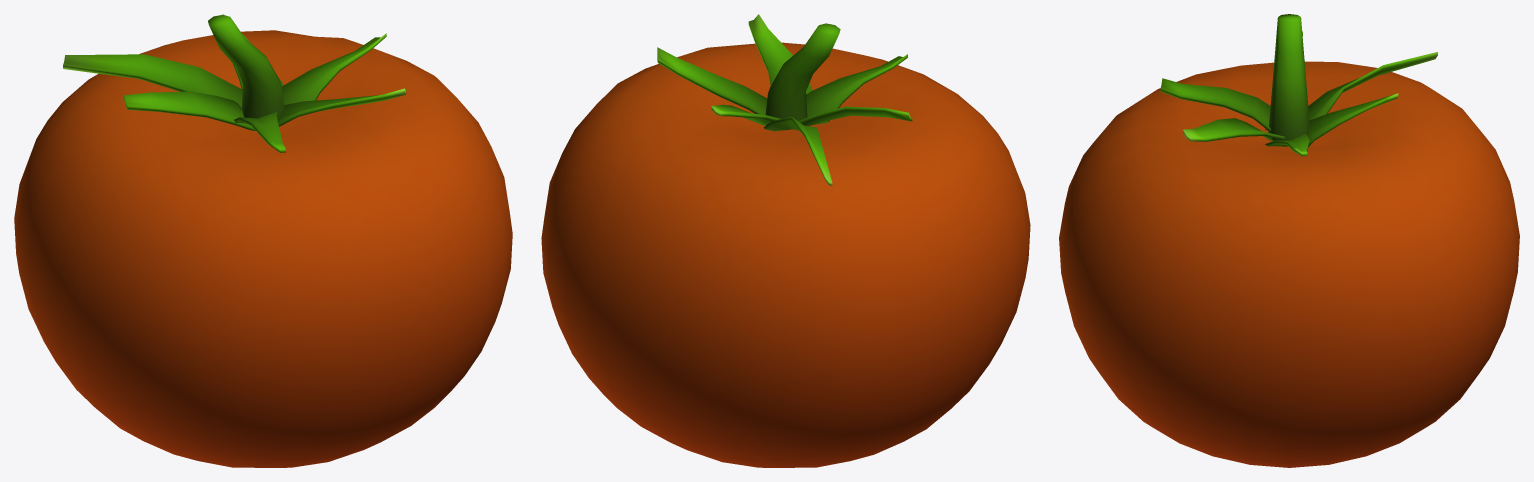
Rendered from Tomato.fbx.
3 renders of one model, left to right at view 1: azimuth 30°, elevation 25°; view 2: azimuth 150°, elevation 25°; view 3: azimuth 270°, elevation 25°, orthographic. The views are drawn at different scales.
Visible parts, largest first — view 1: Cube; view 2: Cube; view 3: Cube.
Boxes of the visible parts, left/top/right/bottom form: Cube: left=14, top=14, right=512, bottom=467; Cube: left=541, top=14, right=1030, bottom=467; Cube: left=1059, top=14, right=1519, bottom=467.
Size of the model in its own units: 70.23 by 68.18 by 70.23.
